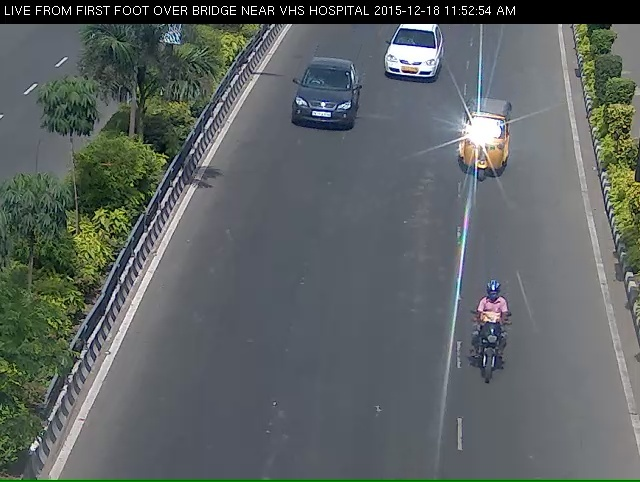Car: (290, 66, 360, 148), (456, 108, 511, 199), (378, 29, 444, 93)
Person: (472, 305, 509, 413)
